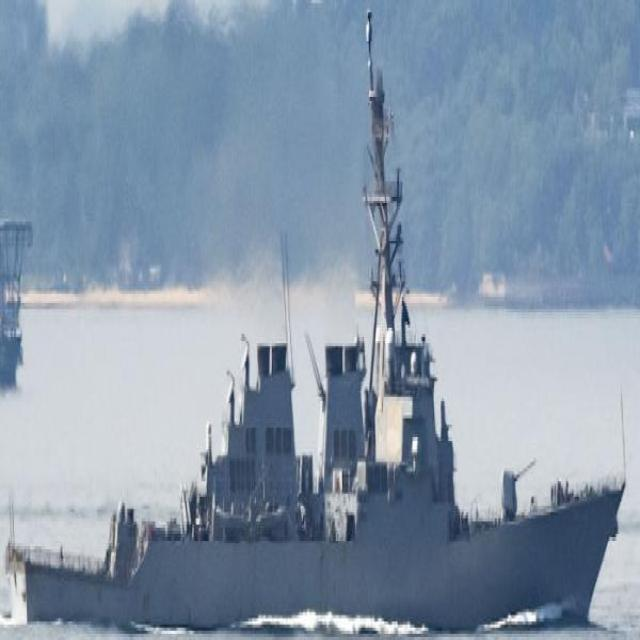Military: (5, 12, 622, 628)
